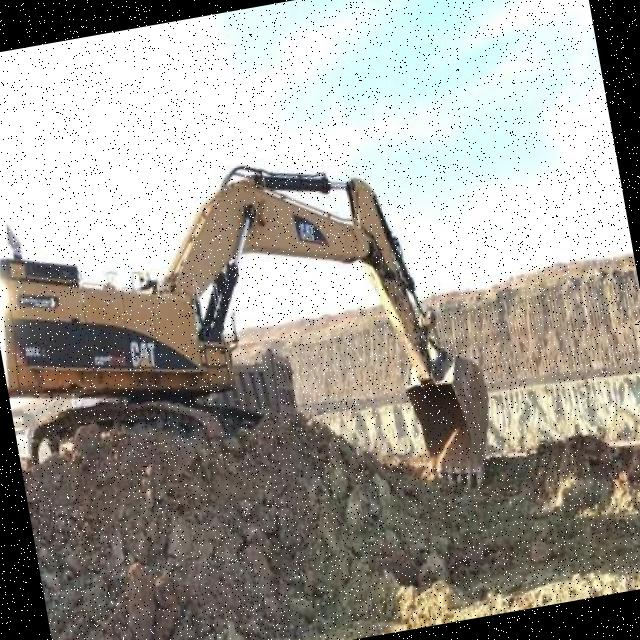Dump Truck: (204, 346, 300, 426)
Excavator: (0, 126, 505, 566)
